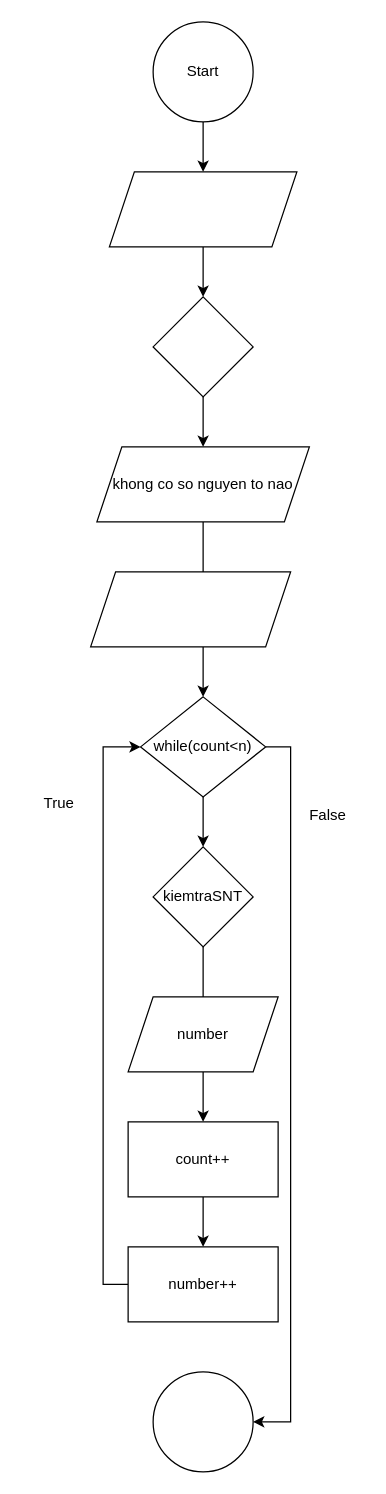
Some shapes in this 386 by 1494 pixel diagram are drawn without their labels. The centre of each missing label's shape, as x and y in pixels:
"End" goes at pixel 202 1421.
"n < 1" goes at pixel 202 346.
"n so nguyen to dau tien la" goes at pixel 190 609.
"number = 2, count =0, n" goes at pixel 202 209.
